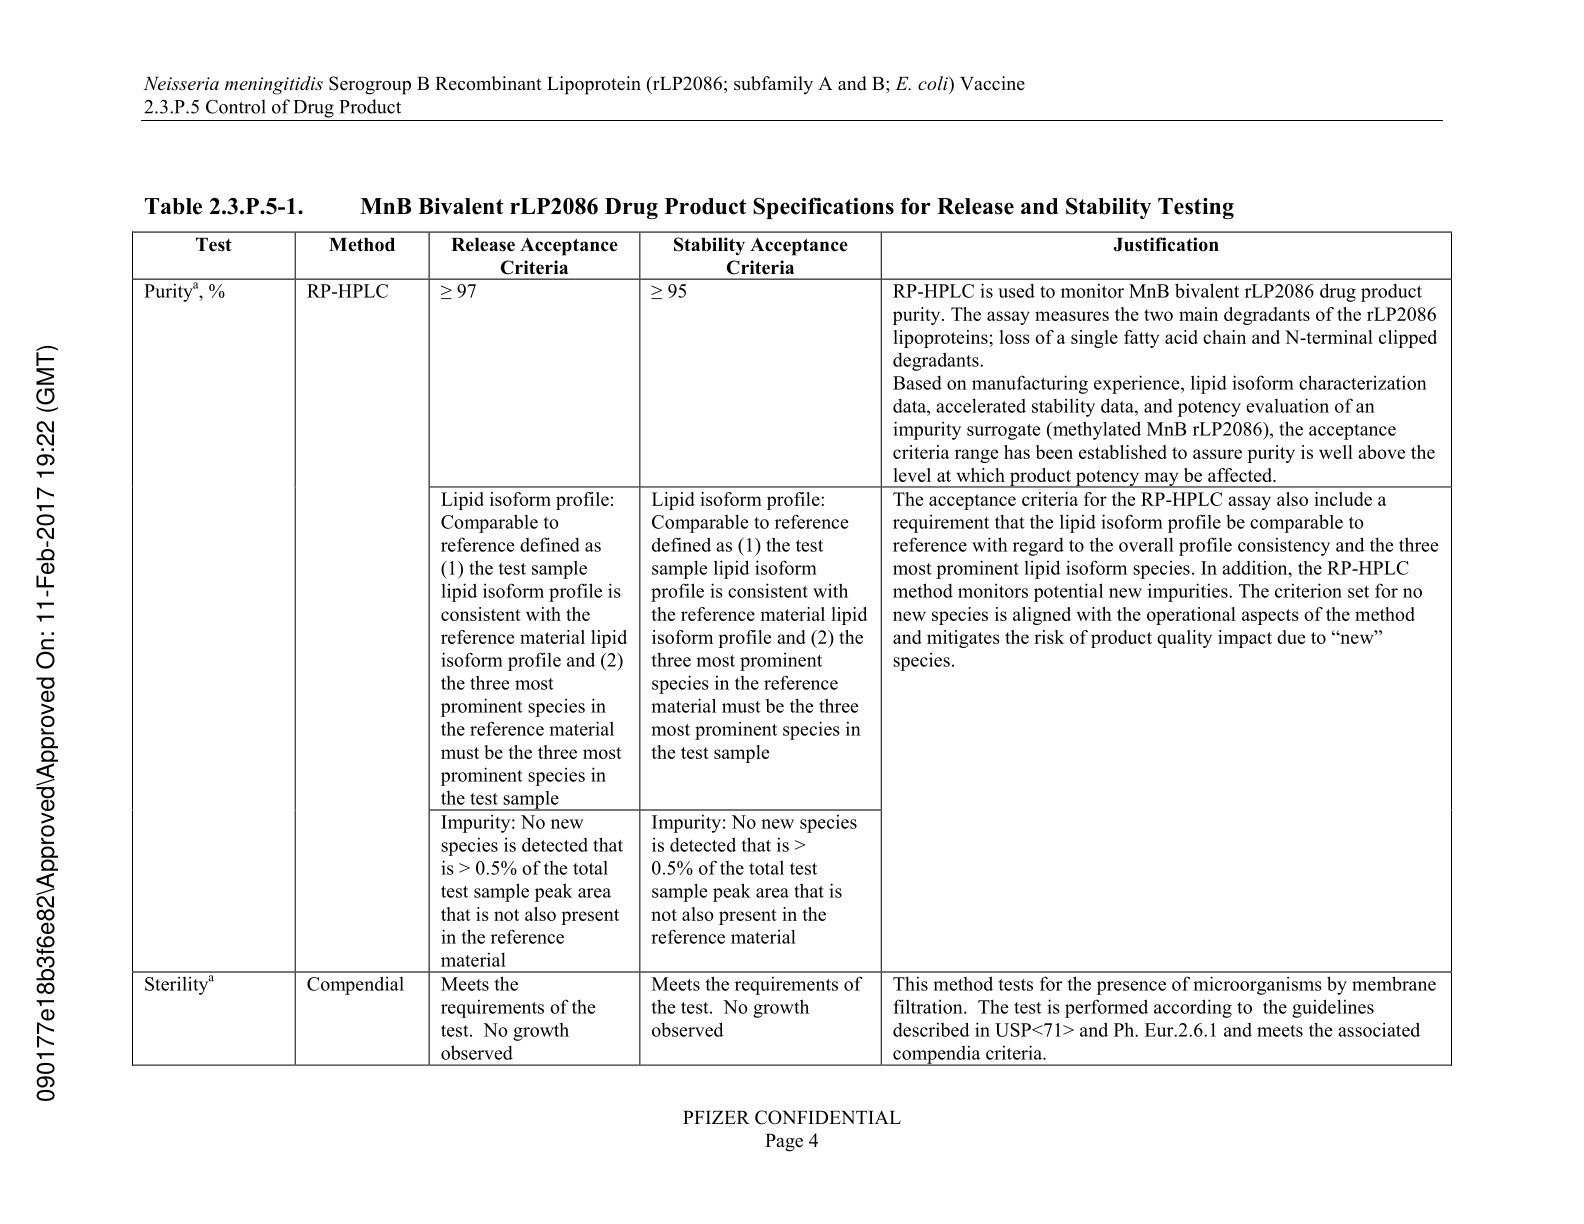merged_cells: (130, 230, 1452, 1066)
